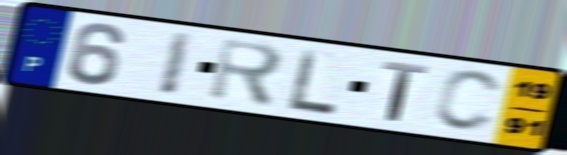6: (64, 21, 127, 87)
C: (431, 68, 506, 135)
I: (154, 29, 198, 98)
L: (287, 46, 340, 117)
R: (206, 36, 288, 111)
T: (379, 58, 431, 124)
